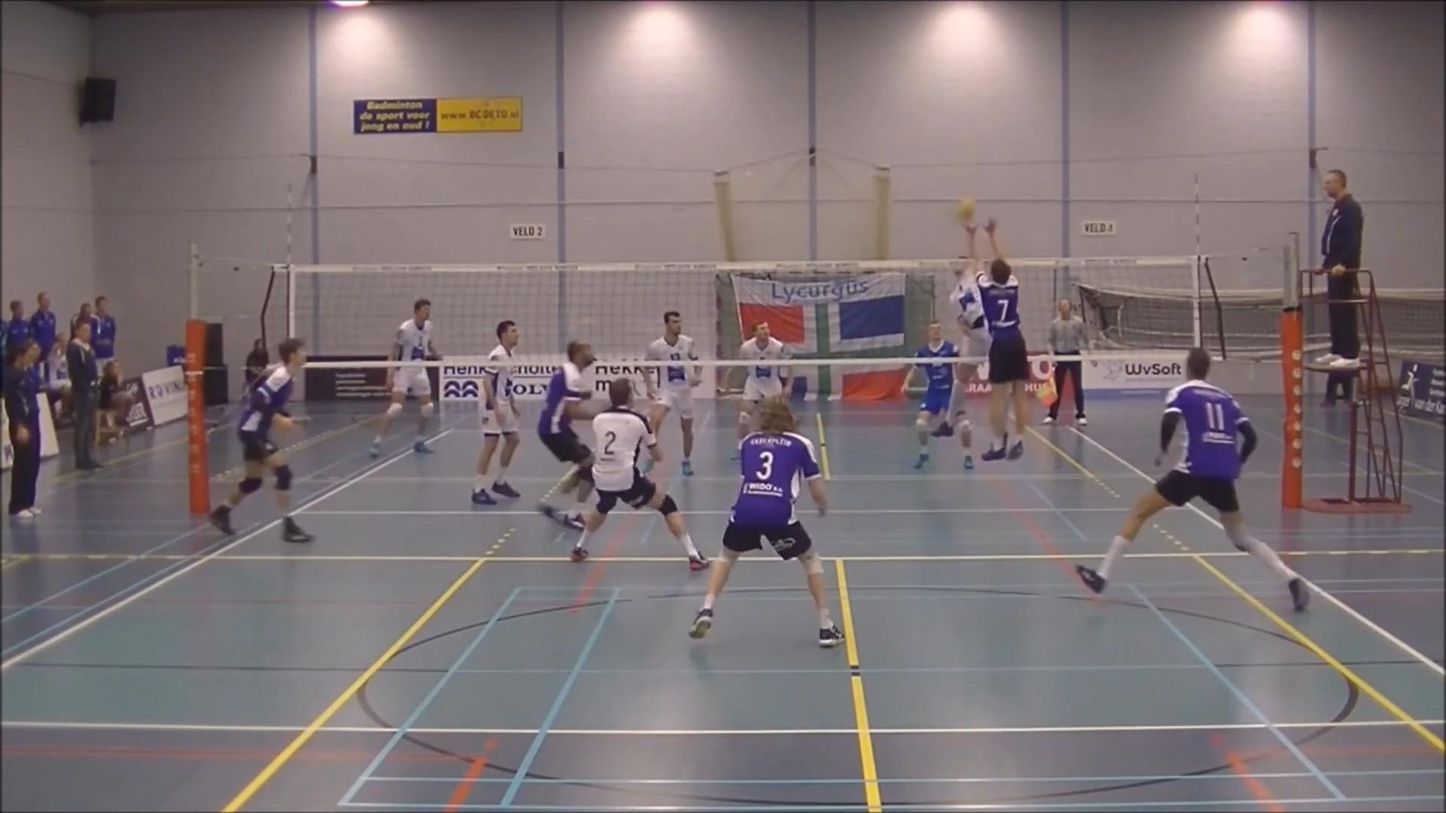attacco: (935, 217, 997, 455)
muro: (940, 214, 1040, 467)
